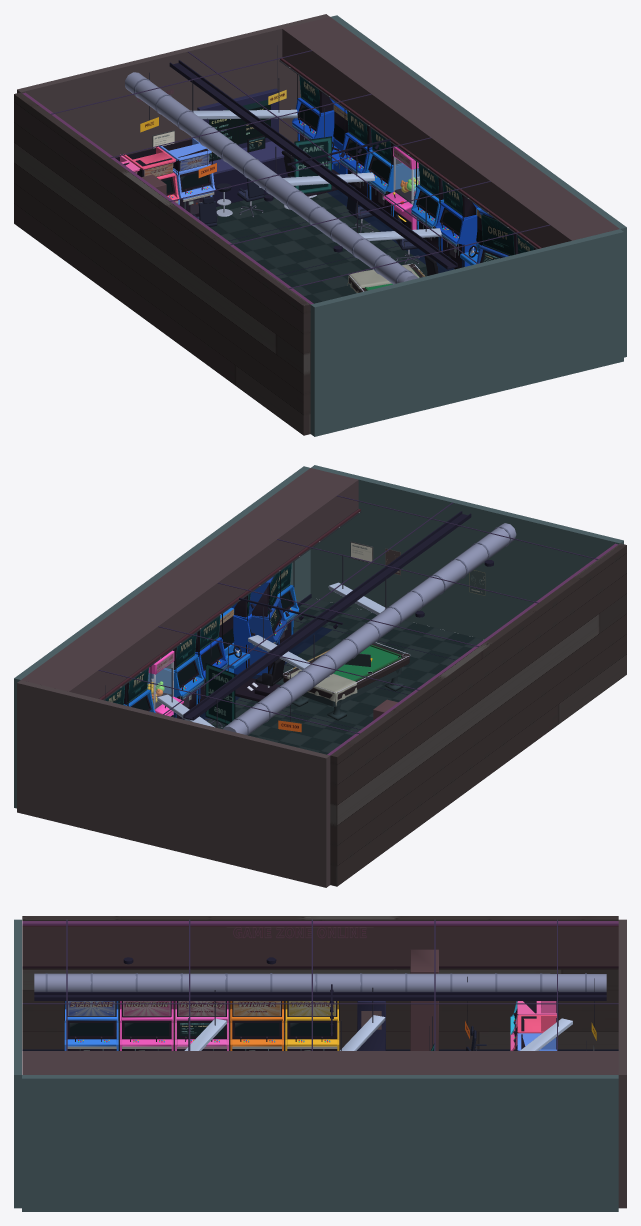
File: game-room-1-day.lod1.glb
The picture shows the model from 3 angles, top to bottom: view 1: azimuth 30°, elevation 25°; view 2: azimuth 150°, elevation 25°; view 3: azimuth 270°, elevation 25°; orthographic projection. The views are drawn at different scales.
Parts seen in each view (by area): view 1: object 59, object 58, object 64, object 60, object 56, object 183, object 185, object 188, object 65, object 121, object 76, object 94 (+21 smaller); view 2: object 60, object 58, object 59, object 64, object 56, object 183, object 185, object 65, object 188, object 117, object 76, object 71 (+12 smaller); view 3: object 59, object 61, object 58, object 64, object 183, object 185, object 69, spot:rig-seven, object 60, object 65, object 73, object 188 (+18 smaller).
Part boxes in pixels (x1,y1,x2,y2): object 59: (310, 15, 626, 436); object 58: (14, 92, 310, 435); object 64: (282, 17, 619, 247); object 60: (17, 14, 329, 157); object 56: (209, 157, 453, 303); object 183: (125, 72, 418, 284); object 185: (169, 60, 457, 269); object 188: (115, 90, 536, 268); object 65: (51, 50, 549, 288); object 121: (292, 97, 478, 266); object 76: (191, 109, 441, 240); object 94: (162, 105, 482, 244); object 60: (17, 680, 330, 887); object 58: (330, 543, 626, 886); object 59: (14, 465, 623, 808); object 64: (21, 468, 358, 698); object 56: (200, 598, 483, 754); object 183: (223, 523, 516, 734); object 185: (183, 511, 493, 720); object 65: (98, 495, 598, 734); object 188: (105, 576, 291, 718); object 117: (123, 585, 299, 717); object 76: (157, 582, 385, 727); object 71: (205, 663, 235, 724); object 59: (14, 919, 618, 1211); object 61: (22, 926, 618, 965); object 58: (22, 916, 618, 1049); object 64: (22, 1051, 618, 1074); object 183: (34, 973, 606, 991); object 185: (34, 957, 606, 1037); object 69: (22, 921, 618, 925); spot:rig-seven: (285, 1001, 339, 1050); object 60: (618, 919, 626, 1208); object 65: (22, 919, 618, 1050); object 73: (410, 949, 438, 1050); object 188: (67, 1001, 556, 1050).
Bounding box in the file's own units: 9.4 × 3.68 × 15.
Materials: 194 (62 with a texture image).
